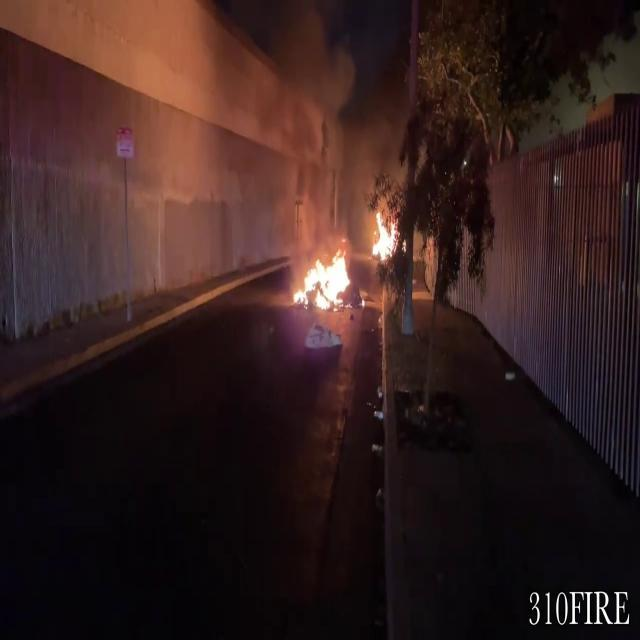Fire: (289, 244, 353, 316), (370, 201, 400, 271)
Smoke: (263, 5, 360, 234)
